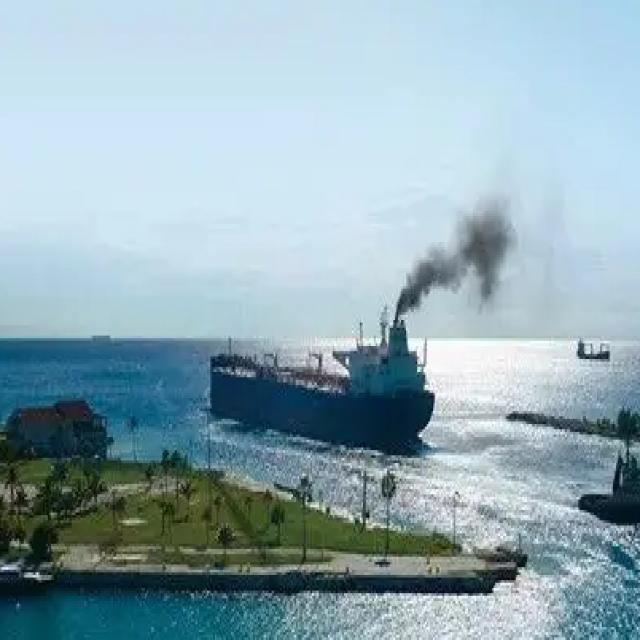cargoship: (201, 315, 448, 452)
